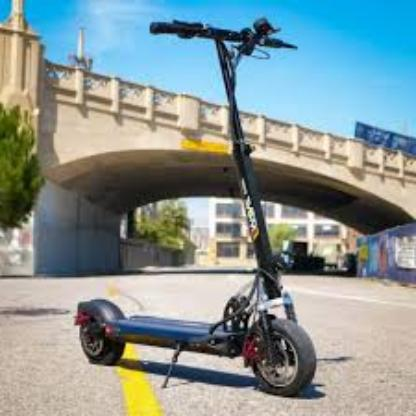bike: (73, 256, 317, 398)
